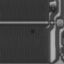dust: (29, 29, 36, 34)
